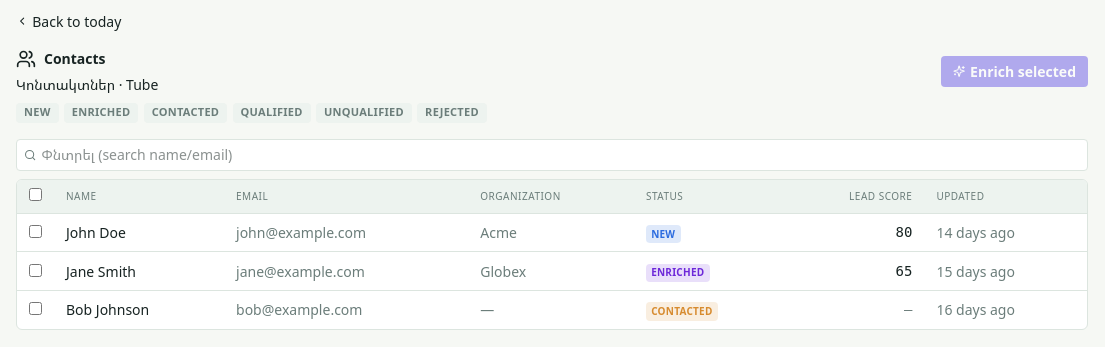
ContactsWorkspace — search filter › filters rows client-side by name
In the search field with test id "tube-contacts-search": point(552, 154) [16,138,1088,170], type "john"
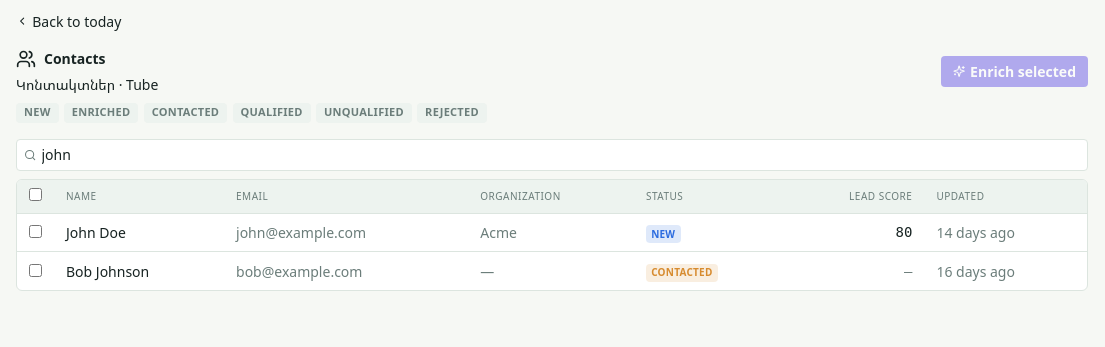
expect the number of rows with test id "tube-contact-row" is 2: met, box [17,213,1087,252]; [17,252,1087,290]
